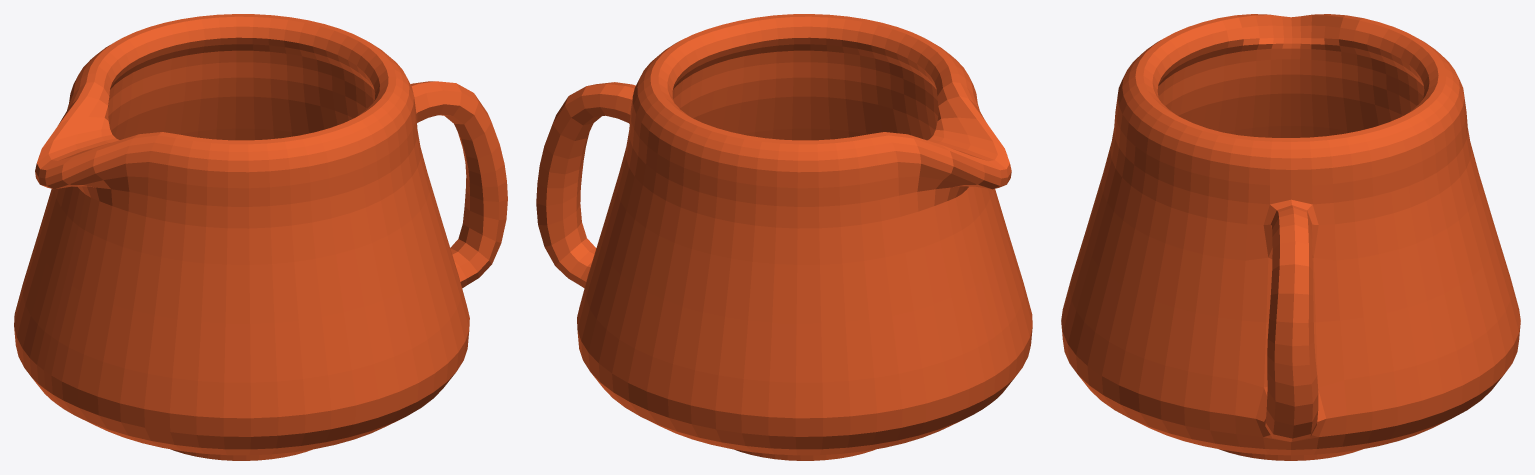
File: mug.glb
The picture shows the model from 3 angles, left to right: view 1: azimuth 30°, elevation 25°; view 2: azimuth 150°, elevation 25°; view 3: azimuth 270°, elevation 25°; orthographic projection.
Parts seen in each view (by area): view 1: mug; view 2: mug; view 3: mug.
Boxes of the visible parts, bbox=[...] form: mug: bbox=[14, 14, 507, 460]; mug: bbox=[536, 14, 1032, 460]; mug: bbox=[1061, 14, 1520, 460].
Size of the model in its own units: 0.6422 by 0.4479 by 0.5441.
